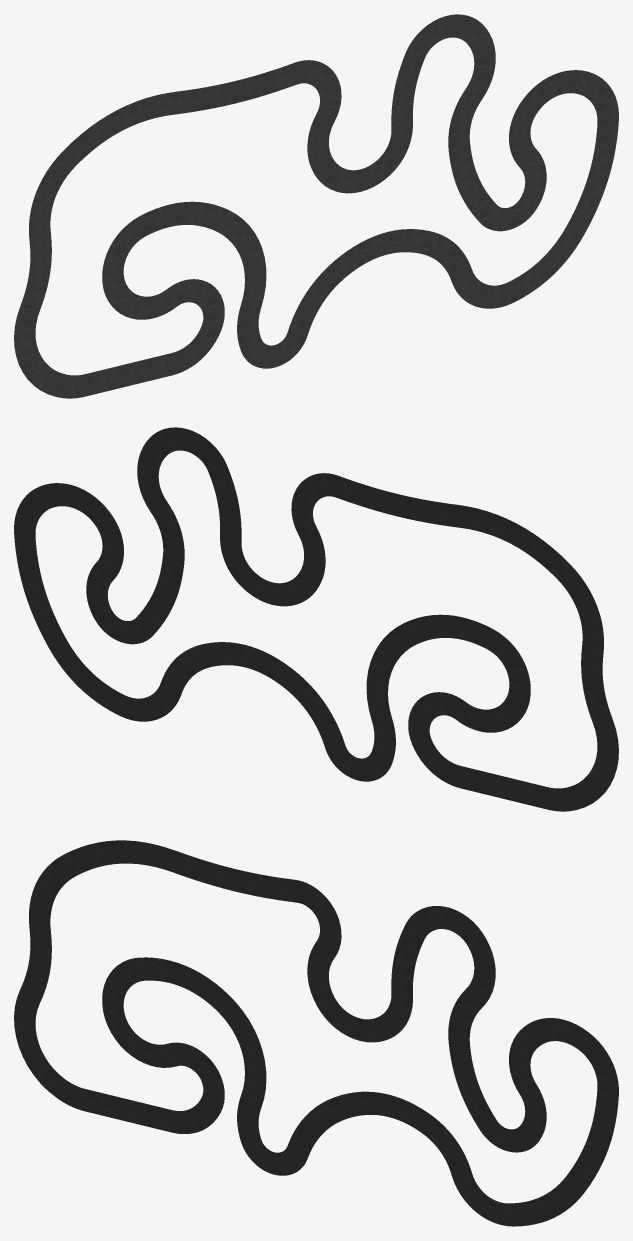
Rendered from track9_road.obj.
3 renders of one model, top to bottom at view 1: azimuth 30°, elevation 25°; view 2: azimuth 150°, elevation 25°; view 3: azimuth 330°, elevation 25°, orthographic.
Visible parts, largest first — view 1: road_0_curve_; view 2: road_0_curve_; view 3: road_0_curve_.
Part boxes in pixels (bbox=[...]): road_0_curve_: bbox=[14, 14, 618, 398]; road_0_curve_: bbox=[14, 427, 618, 811]; road_0_curve_: bbox=[14, 840, 618, 1226].
Bounding box in the file's own units: 45.97 × 22.49 × 0.
1 material, 1 textured.
